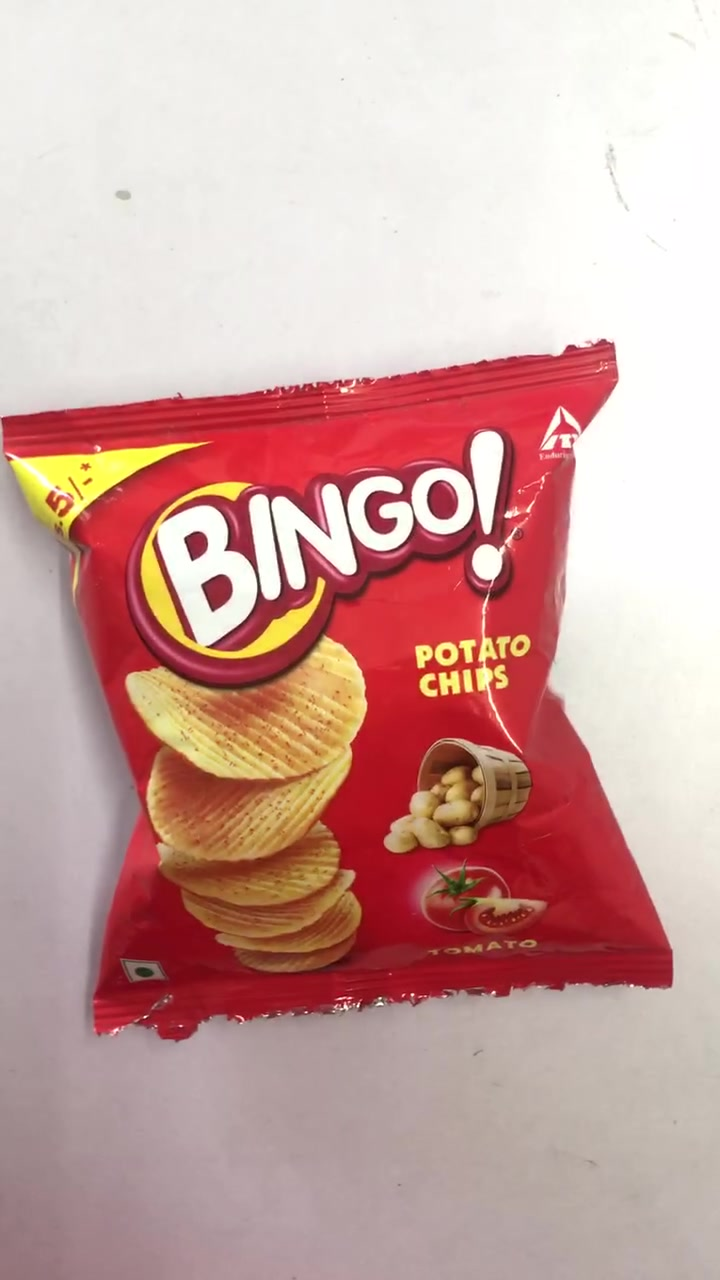Bingo: (9, 410, 684, 1032)
